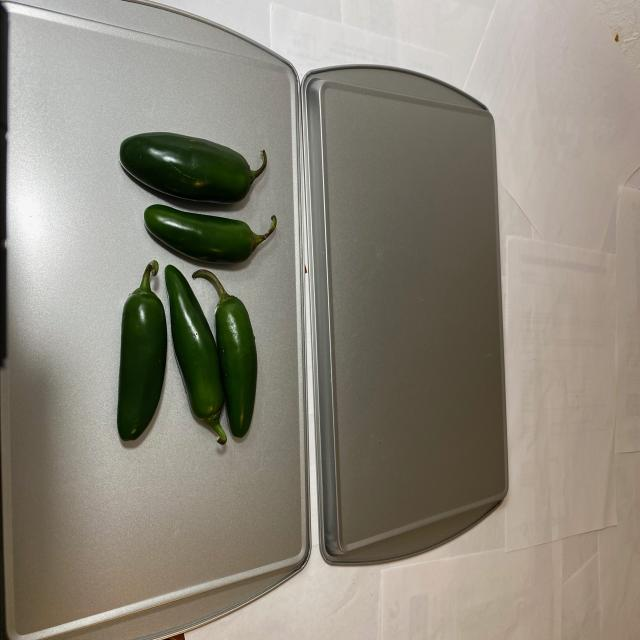chilli: (115, 119, 276, 468)
